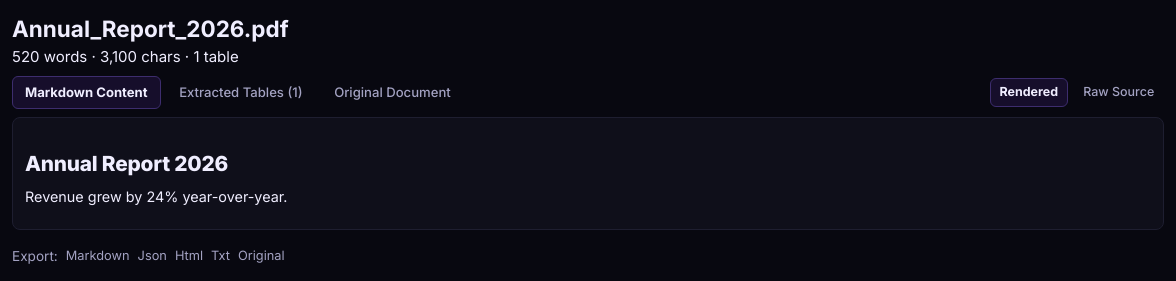
Scenario: DocumentPreview Accessibility and Interactions › toggles between rendered and raw markdown views with aria-pressed
Click the button "Raw Source". click: [1119, 93]
box: [1074,78,1164,107]
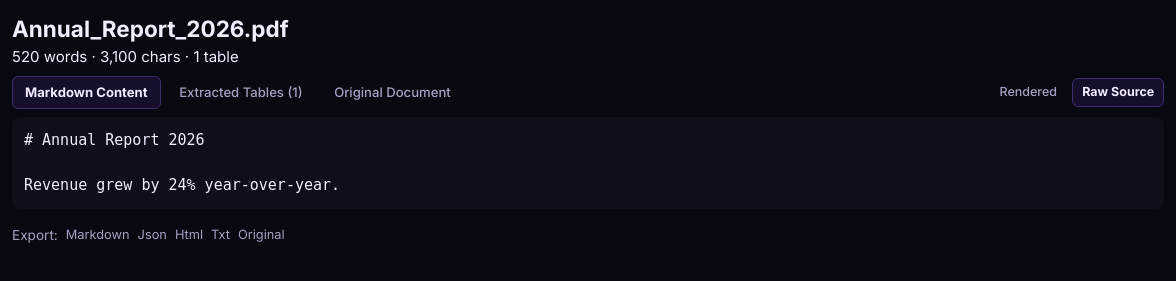
expect the text named "Extracted raw markdown text" is shown: met, box [12,117,1164,209]
